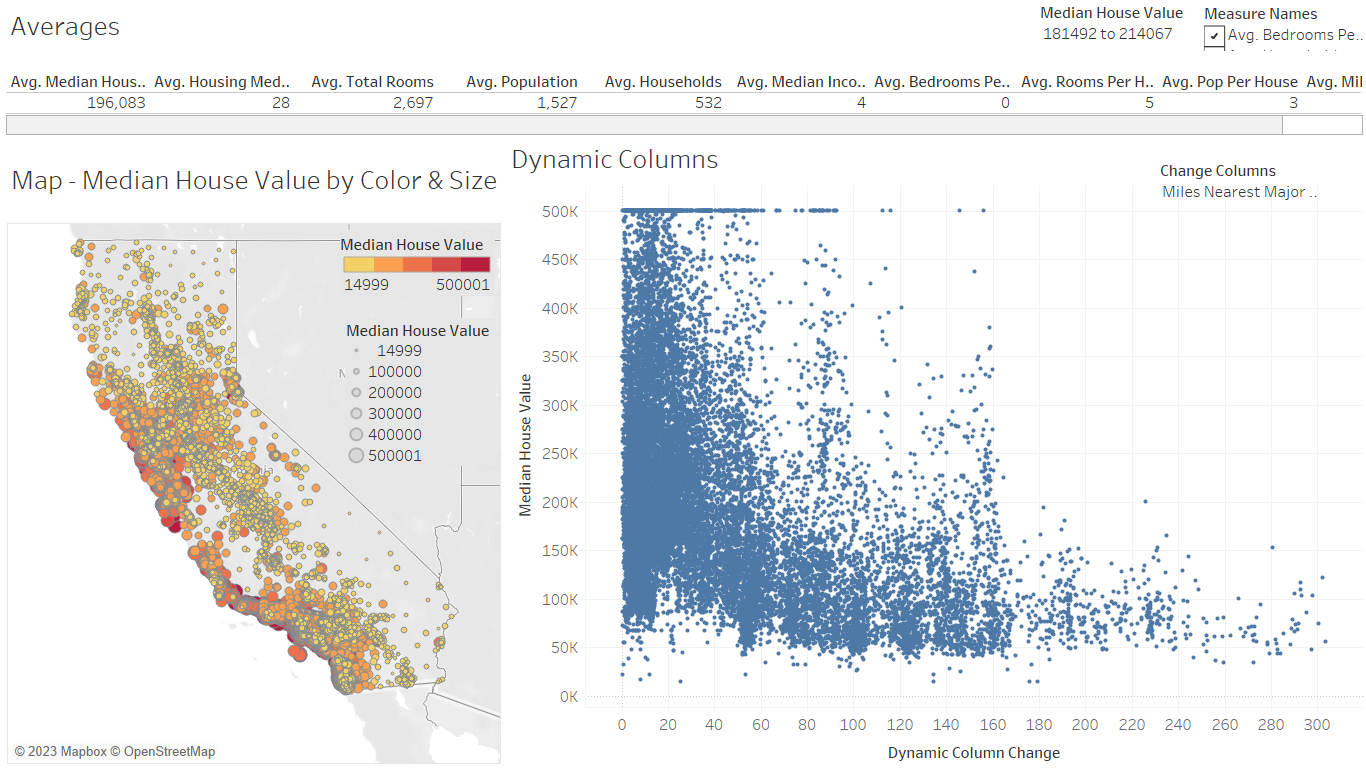

This screenshot's page, from the dashboard's own definition file:
{"tool":"tableau","page":{"name":"Dashboard","canvas":[1366,768],"ordinal":0},"visuals":[{"type":"filter","title":"Averages","param":"[federated.0folnf4071phs91byyoqa017ccb5].[none:median_house_value:qk]","box":[1040,1,160,65]},{"type":"worksheet","title":"Averages","mark":"Automatic","box":[6,2,1356,195]},{"type":"filter","title":"Averages","param":"[federated.0folnf4071phs91byyoqa017ccb5].[:Measure Names]","box":[1204,2,160,49]},{"type":"worksheet","title":"Dynamic Columns","mark":"Circle","rows":["median_house_value"],"cols":["Calculation_758575115397791744"],"box":[507,135,856,635]},{"type":"worksheet","title":"Map - Median House Value by Color & Size","mark":"Circle","rows":["latitude"],"cols":["longitude"],"box":[7,138,503,626]},{"type":"parameter","param":"[Parameters].[Parameter 1]","box":[1160,159,160,48]},{"type":"legend","title":"Map - Median House Value by Color & Size","param":"[federated.0folnf4071phs91byyoqa017ccb5].[none:median_house_value:qk]","box":[340,230,155,77]},{"type":"legend","title":"Map - Median House Value by Color & Size","param":"[federated.0folnf4071phs91byyoqa017ccb5].[none:median_house_value:qk]","box":[345,318,151,148]}]}

Visuals, with their boxes in screenshot pixels (x1, y1, x2, y2), scaled from the page's 1366x768 canvas onto the 1366x768 screenshot:
"Averages" filter: 1040 1 1200 66
"Averages" worksheet: 6 2 1362 197
"Averages" filter: 1204 2 1364 51
"Dynamic Columns" worksheet (Circle marks): 507 135 1363 767
"Map - Median House Value by Color & Size" worksheet (Circle marks): 7 138 510 764
parameter: 1160 159 1320 207
"Map - Median House Value by Color & Size" legend: 340 230 495 307
"Map - Median House Value by Color & Size" legend: 345 318 496 466
